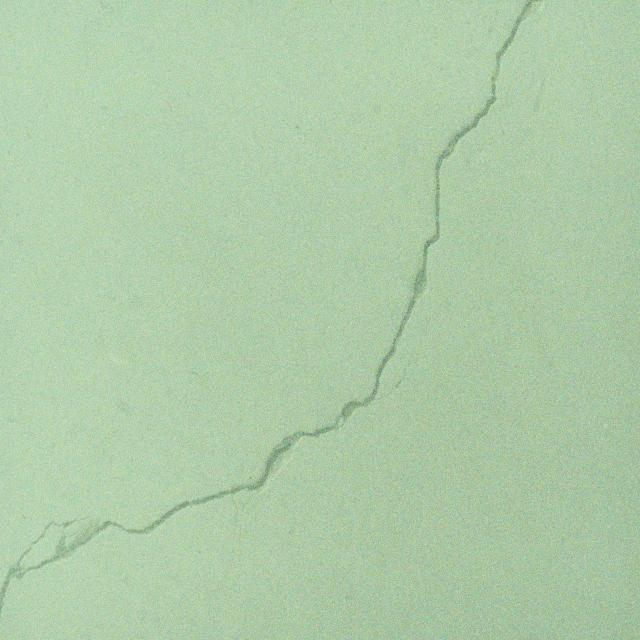crack: (0, 0, 543, 619), (387, 294, 432, 394)
